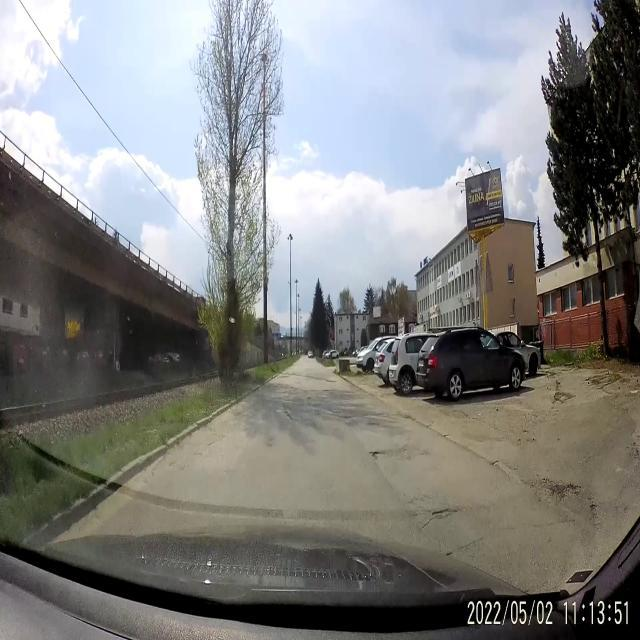Pothole: (532, 473, 582, 503), (429, 504, 465, 526), (492, 457, 516, 478), (368, 447, 390, 463)
